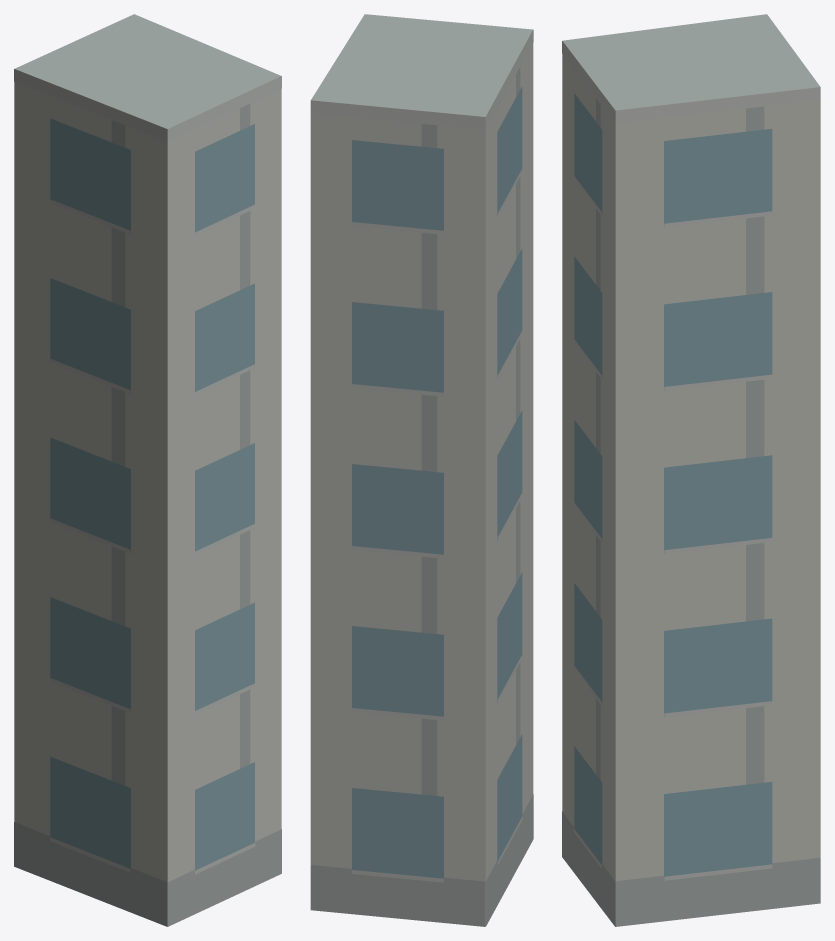
Rendered from survey-upis-32839638.glb.
3 views of the same model, side by side, from view 1: azimuth 30°, elevation 25°; view 2: azimuth 150°, elevation 25°; view 3: azimuth 270°, elevation 25° (orthographic). The views are drawn at different scales.
Parts seen in each view (by area): view 1: survey-upis-32839638.tmp; view 2: survey-upis-32839638.tmp; view 3: survey-upis-32839638.tmp.
Boxes of the visible parts, x1,y1,x2,y2 form: survey-upis-32839638.tmp: (14,14,281,926); survey-upis-32839638.tmp: (310,14,533,926); survey-upis-32839638.tmp: (562,14,820,926).
Bounding box in the file's own units: 3.88 × 15.25 × 4.39.
